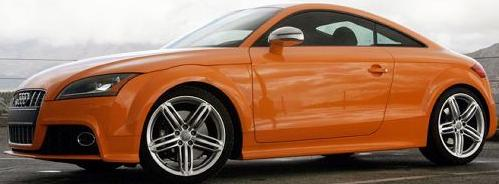front_view: (6, 56, 166, 162)
headlight: (56, 69, 142, 99)
side_glass: (260, 8, 427, 48)
